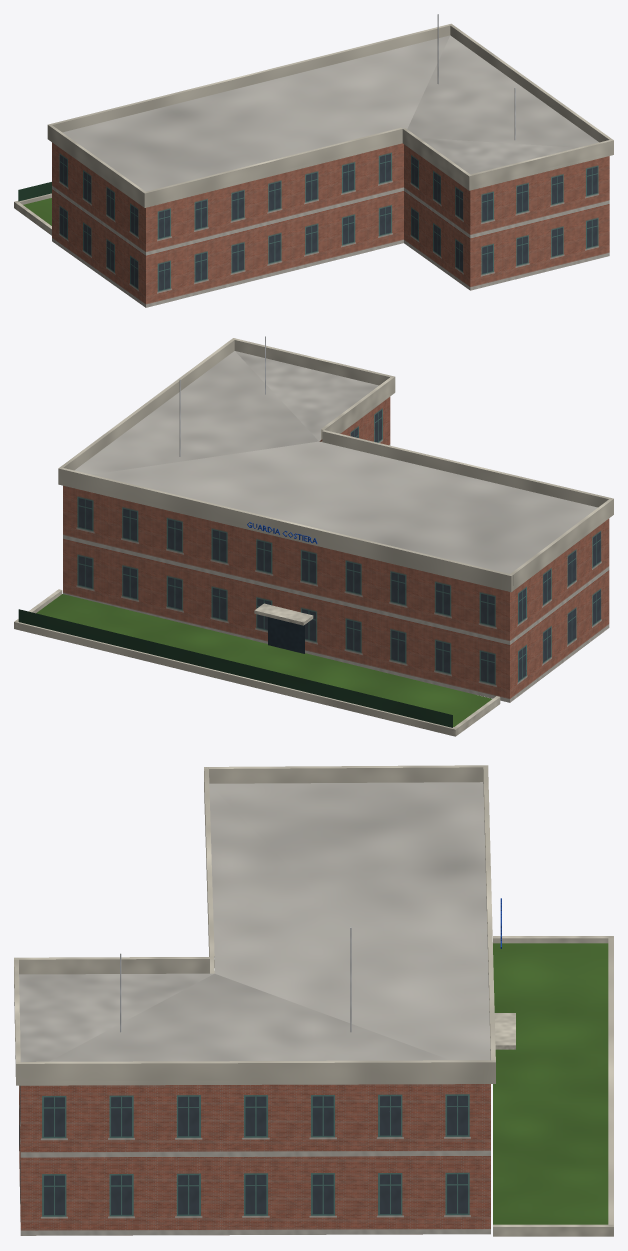
Rendered from SM_MoloItalia_Capitaneria_v2_LOD1.fbx.
3 views of the same model, one above another, from view 1: azimuth 30°, elevation 25°; view 2: azimuth 150°, elevation 25°; view 3: azimuth 270°, elevation 25° (orthographic). The views are drawn at different scales.
Visible parts, largest first — view 1: SM_MoloItalia_Capitaneria_v2_LOD1; view 2: SM_MoloItalia_Capitaneria_v2_LOD1; view 3: SM_MoloItalia_Capitaneria_v2_LOD1.
Boxes of the visible parts, <box> form: SM_MoloItalia_Capitaneria_v2_LOD1: <box>14,14,613,307</box>; SM_MoloItalia_Capitaneria_v2_LOD1: <box>14,336,613,736</box>; SM_MoloItalia_Capitaneria_v2_LOD1: <box>14,765,613,1236</box>.
Size of the model in its own units: 3681 by 3125 by 1515.
2 materials, 2 textured.
